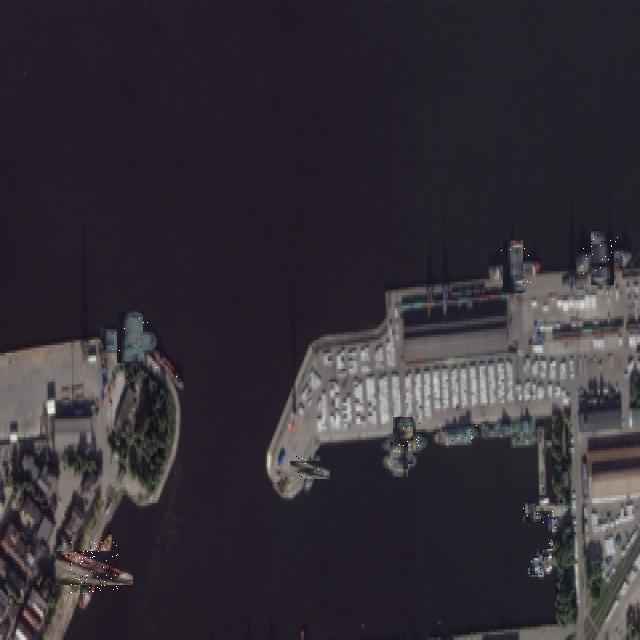boat: (66, 540, 122, 595), (582, 237, 622, 277), (111, 317, 150, 357), (495, 247, 531, 285), (152, 348, 182, 387), (386, 423, 420, 457), (431, 422, 478, 442), (296, 455, 325, 485), (385, 446, 412, 473), (523, 505, 539, 522), (541, 511, 555, 524), (528, 562, 540, 574), (545, 539, 554, 549), (532, 549, 540, 557), (538, 495, 548, 501), (543, 560, 551, 567), (537, 568, 543, 575), (543, 550, 550, 556), (550, 524, 557, 529), (544, 566, 549, 569)
